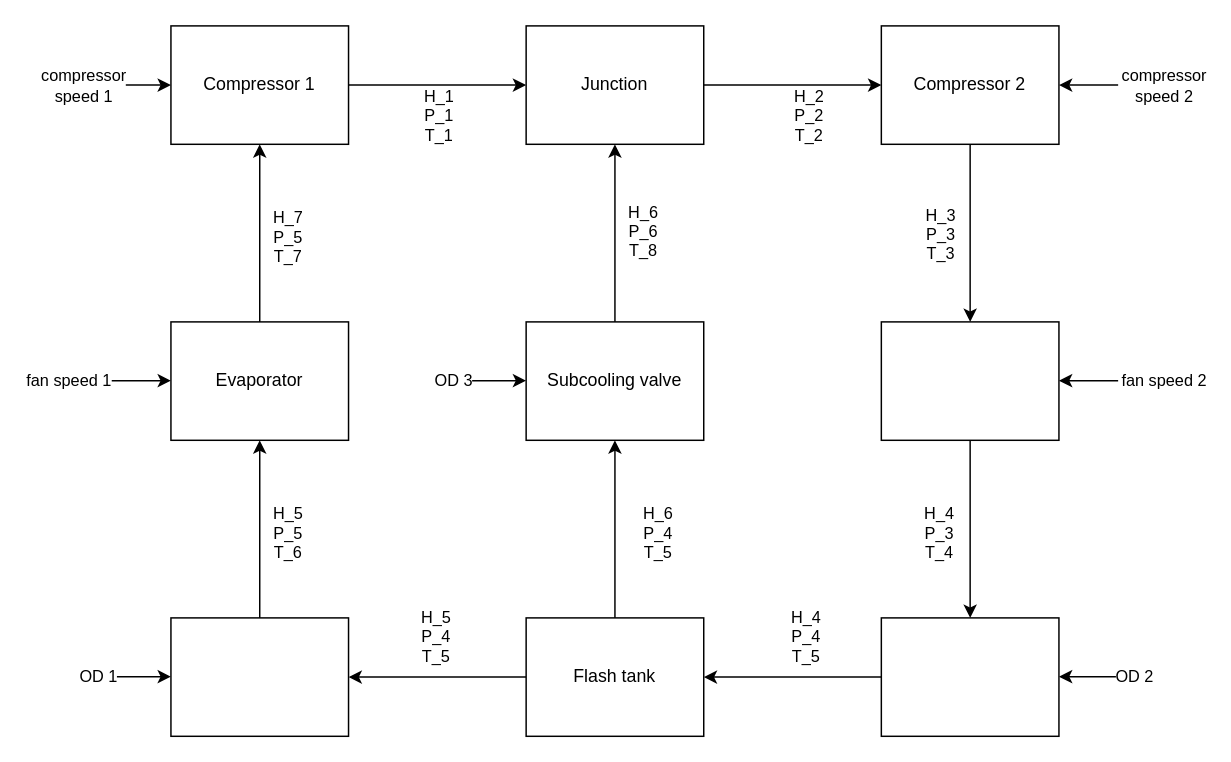
This 1231x762 diagram has some shape labels left out. Each missing label, with the centre of its shape:
"Condenser" goes at [969,380].
"Condenser throttle valve" goes at [969,676].
"Expansion valve" goes at [259,676].
